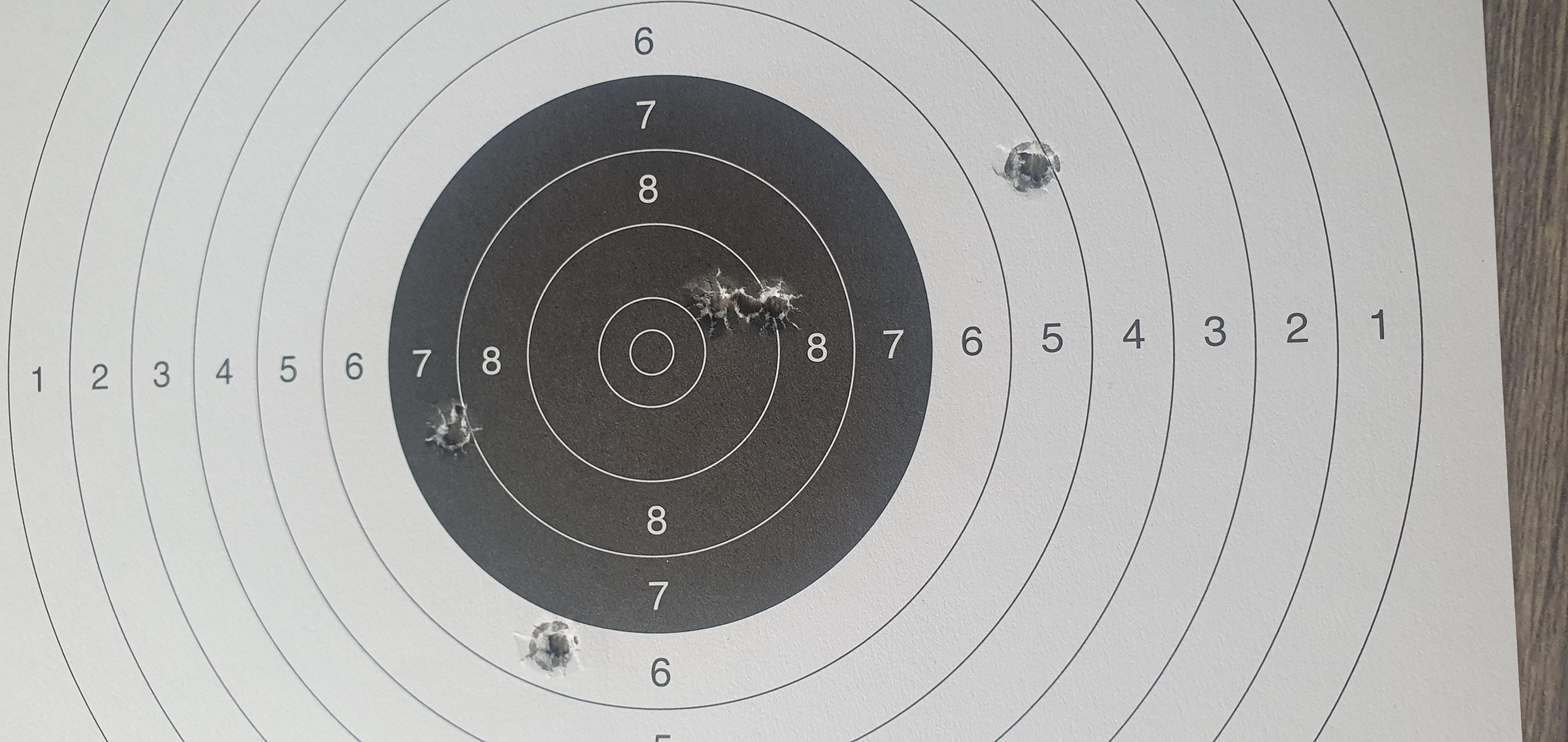hole: (1148, 471, 1290, 504), (860, 324, 1000, 357), (131, 243, 262, 275), (605, 200, 726, 229), (862, 358, 985, 381)
